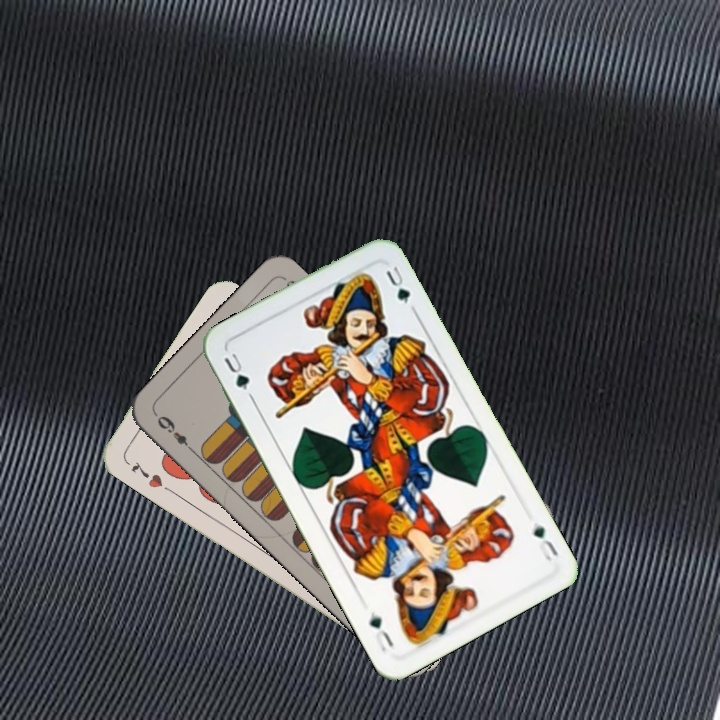E9: (151, 409, 197, 456)
GU: (528, 517, 561, 565), (219, 346, 252, 393)
H7: (126, 457, 166, 491)
